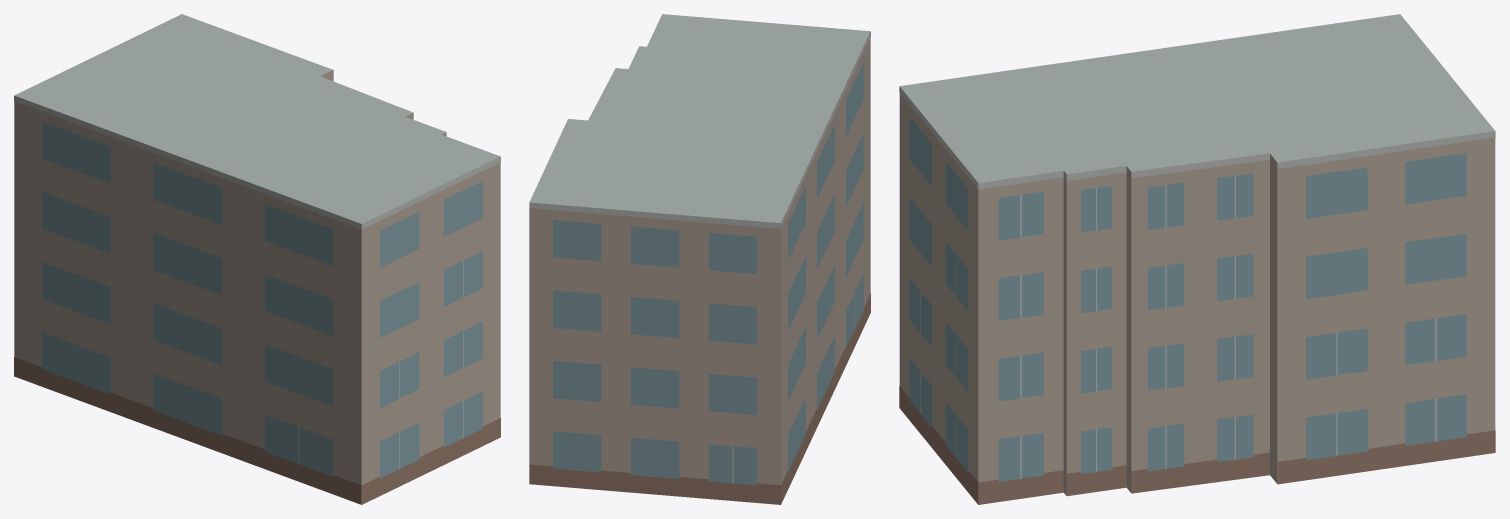
Rendered from survey-upis-32739216.glb.
3 views of the same model, side by side, from view 1: azimuth 30°, elevation 25°; view 2: azimuth 150°, elevation 25°; view 3: azimuth 270°, elevation 25° (orthographic). The views are drawn at different scales.
Parts seen in each view (by area): view 1: survey-upis-32739216.tmp; view 2: survey-upis-32739216.tmp; view 3: survey-upis-32739216.tmp.
Boxes of the visible parts, x1,y1,x2,y2 form: survey-upis-32739216.tmp: [14, 14, 500, 504]; survey-upis-32739216.tmp: [529, 14, 870, 504]; survey-upis-32739216.tmp: [899, 14, 1495, 504].
Bounding box in the file's own units: 13.59 × 12.05 × 20.24.
